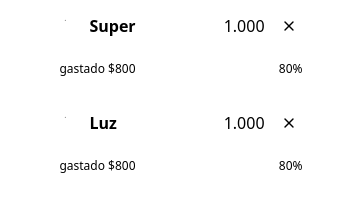
Scenario: BudgetList › shows the server's amount error and does not trust the typed value
This screenshot has width=362, height=214.
Replace the text in the field named "Monto de Super" with "1.5" at (205,26), box [146,12,265,40]
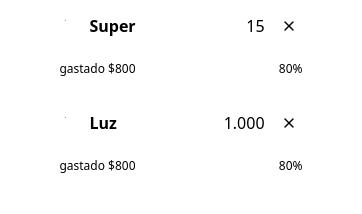
Submit the form next to "Super", box [146,12,265,40]
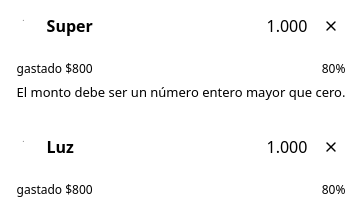
Expected: the message reads "El monto debe ser un número entero mayor que cero.", [17,83,346,101]
